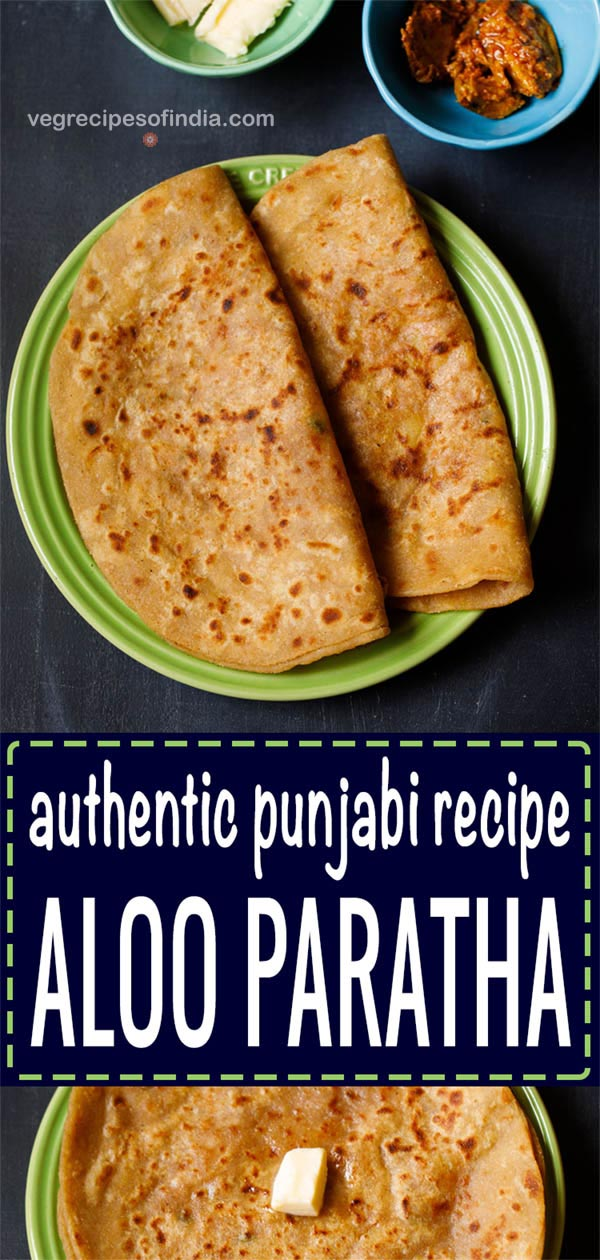aloo_paratha: (43, 138, 549, 696), (41, 1088, 564, 1260)
